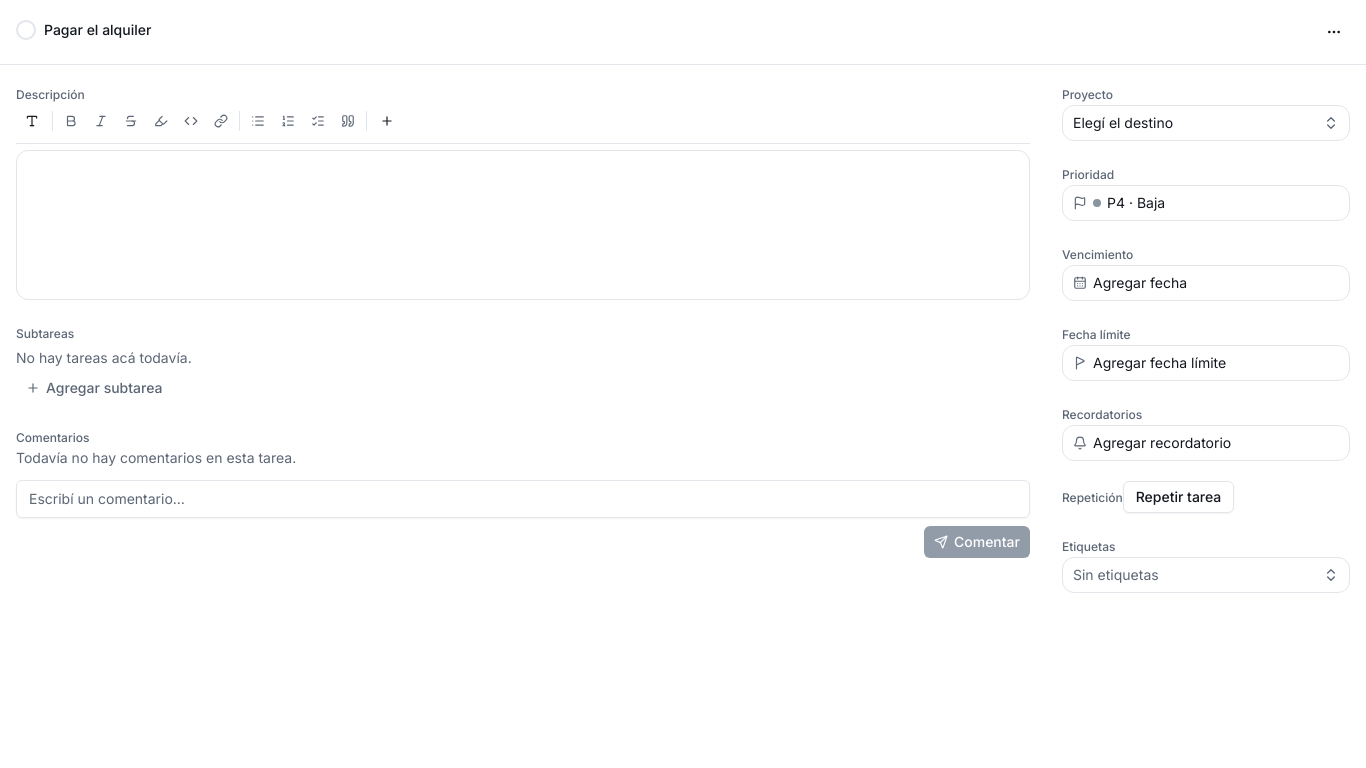
Test case: TaskDetailContent — formulario de detalle (bloque 7.2/7.10) › no autoguarda un título vacío: lo revierte al perder el foco
Clear the field named "Título de la tarea" at (677, 30), box [44, 16, 1310, 44]
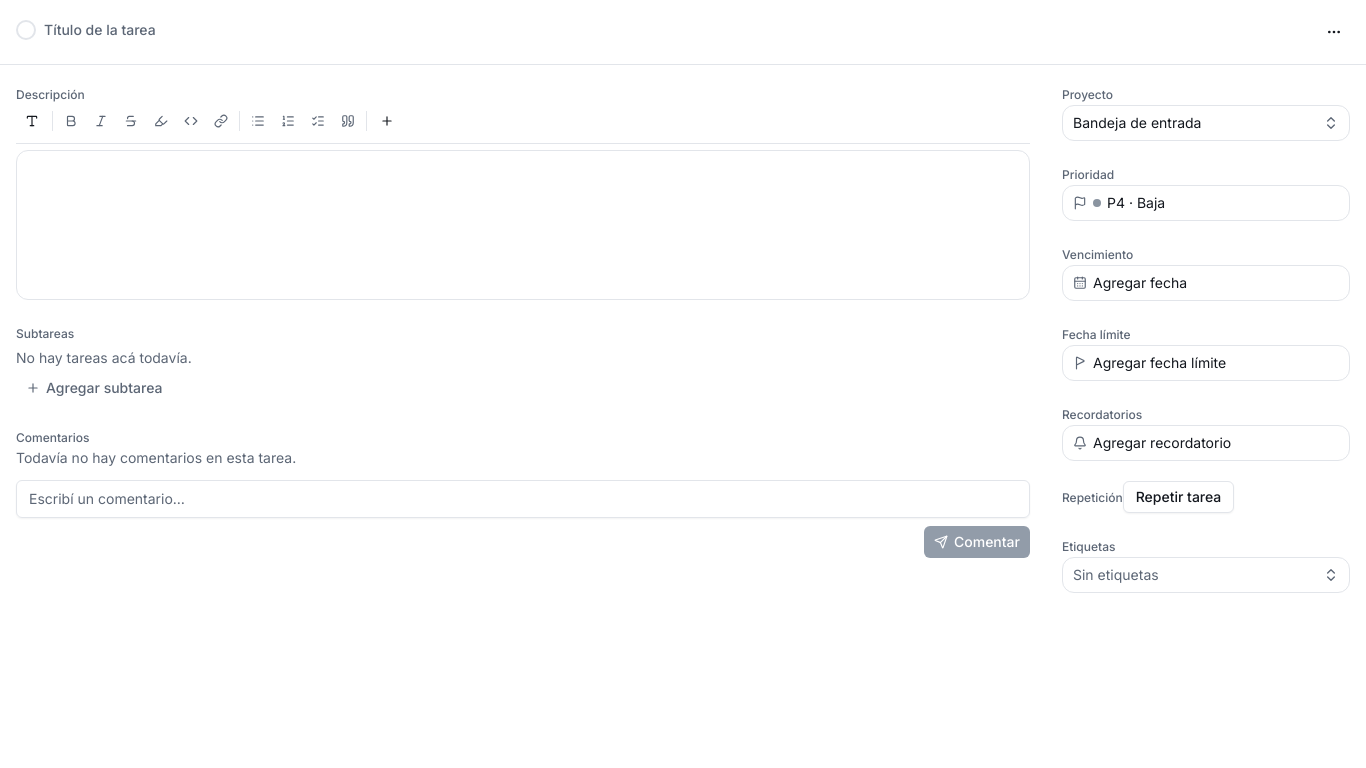
Leave the field labelled "Título de la tarea", box [44, 16, 1310, 44]
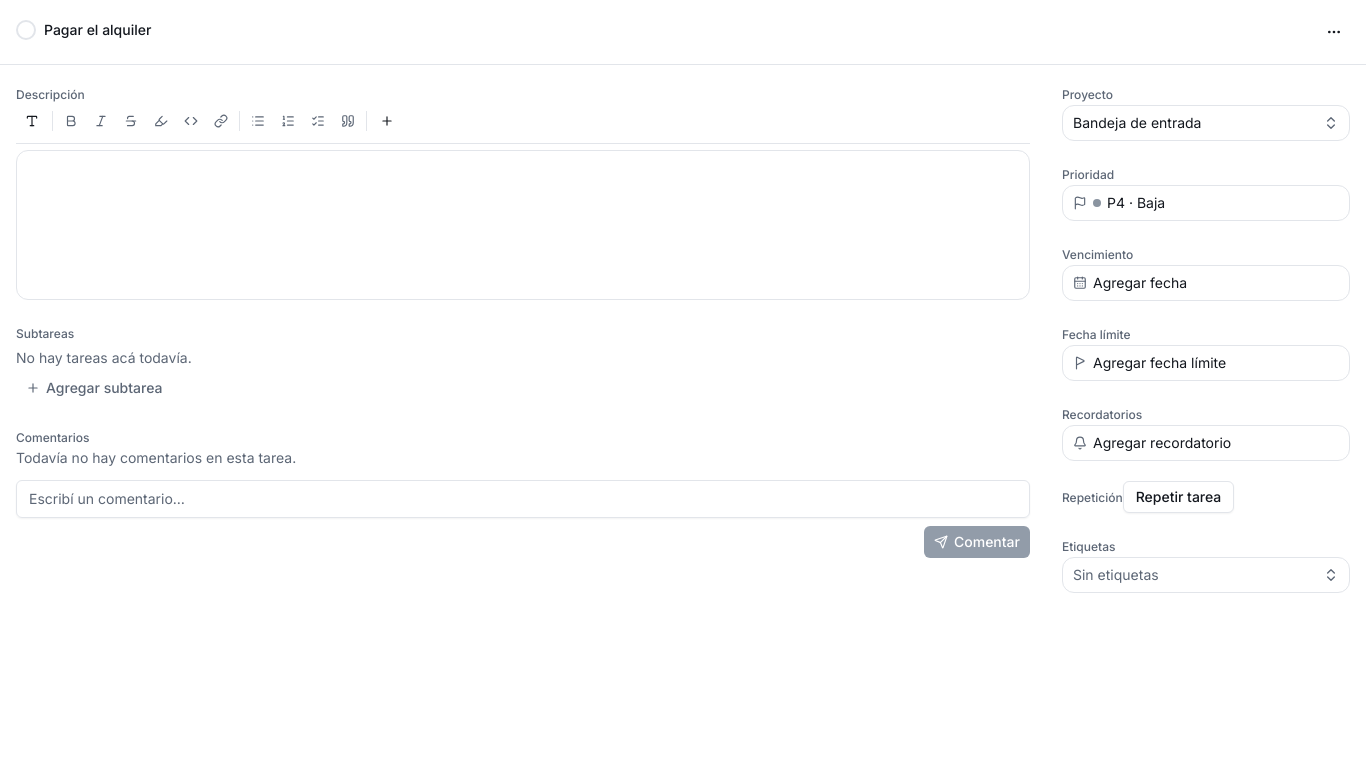
Check: the field named "Título de la tarea" holds "Pagar el alquiler", box [44, 16, 1310, 44]
